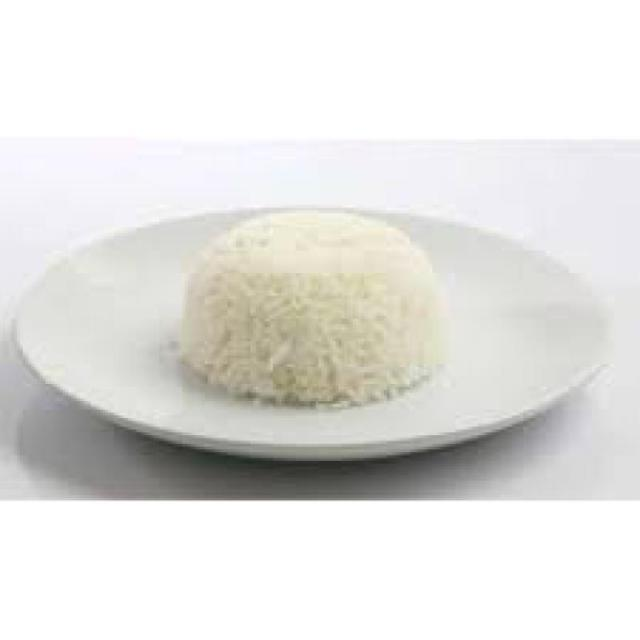nasi_putih: (180, 209, 450, 410)
